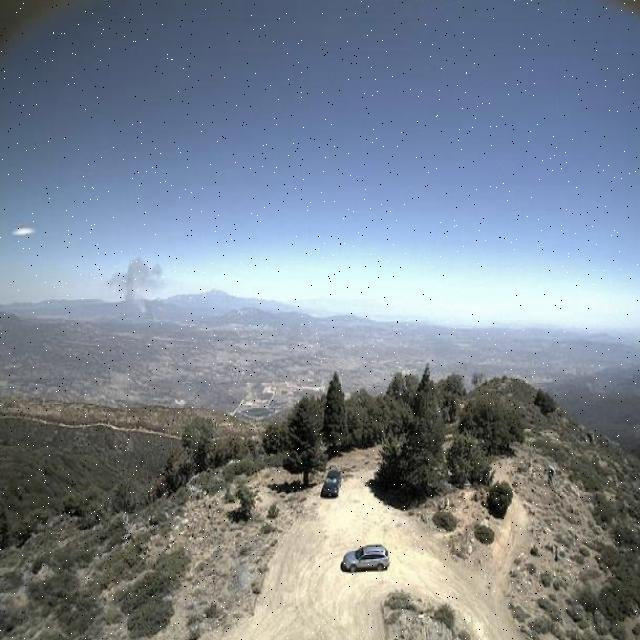smoke: (103, 251, 168, 326)
